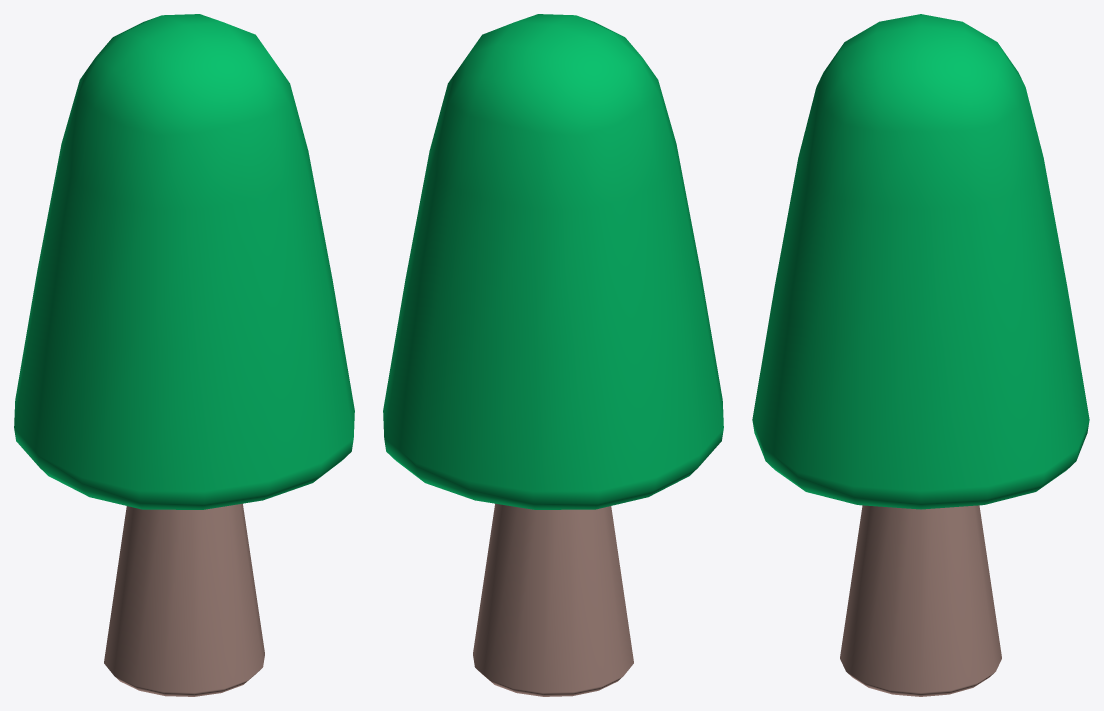
File: Farm_9_Tree_2.glb
3 renders of one model, left to right at view 1: azimuth 30°, elevation 25°; view 2: azimuth 150°, elevation 25°; view 3: azimuth 270°, elevation 25°, orthographic.
Parts seen in each view (by area): view 1: Farm_9_Tree_2; view 2: Farm_9_Tree_2; view 3: Farm_9_Tree_2.
Part boxes in pixels (<box>): Farm_9_Tree_2: <box>14,14,354,696</box>; Farm_9_Tree_2: <box>383,14,723,696</box>; Farm_9_Tree_2: <box>752,14,1089,696</box>.
Size of the model in its own units: 1.66 by 3.46 by 1.66.
Materials: 1 (1 with a texture image).
